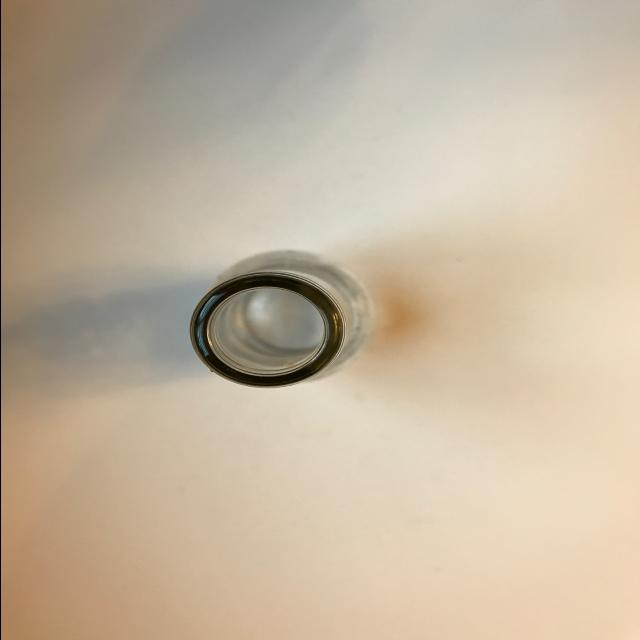glass: (185, 267, 365, 389)
